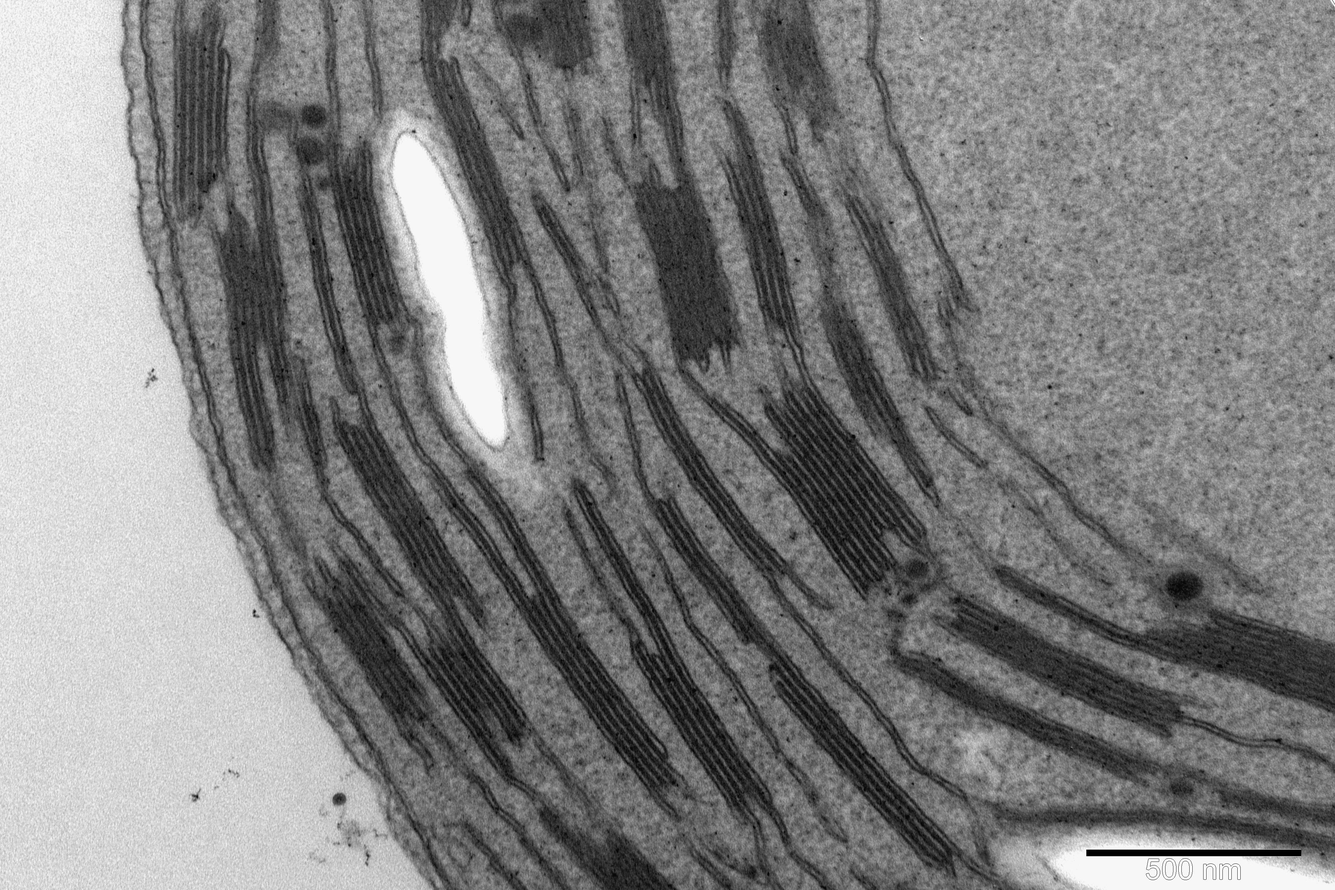granum: (762, 646, 966, 876), (508, 580, 691, 810), (757, 371, 935, 605), (933, 590, 1189, 743), (884, 642, 1147, 789), (627, 362, 796, 586), (796, 195, 919, 463), (327, 414, 480, 613), (416, 53, 534, 281), (831, 156, 941, 390), (621, 171, 753, 363), (303, 563, 440, 744), (630, 636, 768, 812), (210, 207, 299, 473), (1132, 602, 1335, 718), (645, 488, 772, 650), (318, 136, 416, 333), (406, 620, 544, 757), (739, 0, 849, 146), (719, 157, 806, 332), (168, 10, 235, 228), (613, 0, 686, 129), (496, 0, 601, 75), (558, 826, 681, 890), (1217, 778, 1335, 830), (267, 346, 326, 443), (248, 0, 285, 65), (414, 0, 464, 39)
